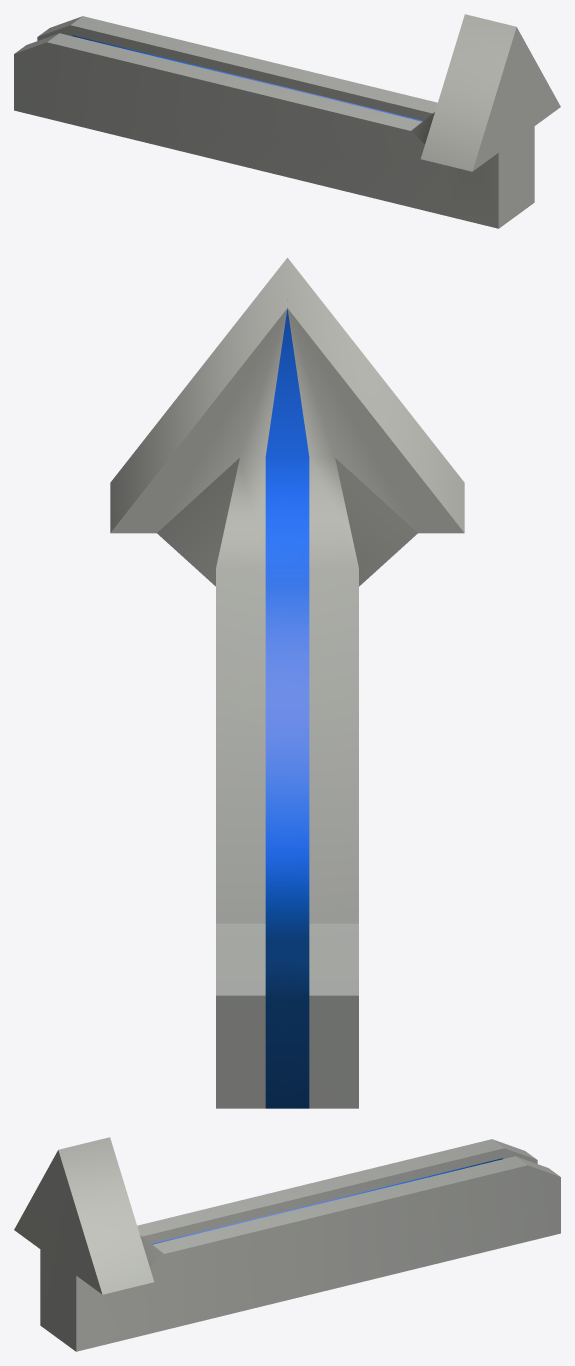
File: pool_bar.fbx
3 views of the same model, one above another, from view 1: azimuth 30°, elevation 25°; view 2: azimuth 150°, elevation 25°; view 3: azimuth 270°, elevation 25° (orthographic). The views are drawn at different scales.
Visible parts, largest first — view 1: pool_bar1; view 2: pool_bar1; view 3: pool_bar1.
Part boxes in pixels (x1=…): pool_bar1: x1=14, y1=14, x2=560, y2=228; pool_bar1: x1=110, y1=257, x2=464, y2=1108; pool_bar1: x1=14, y1=1137, x2=560, y2=1351.
Size of the model in its own units: 54.78 by 29.46 by 77.3.
